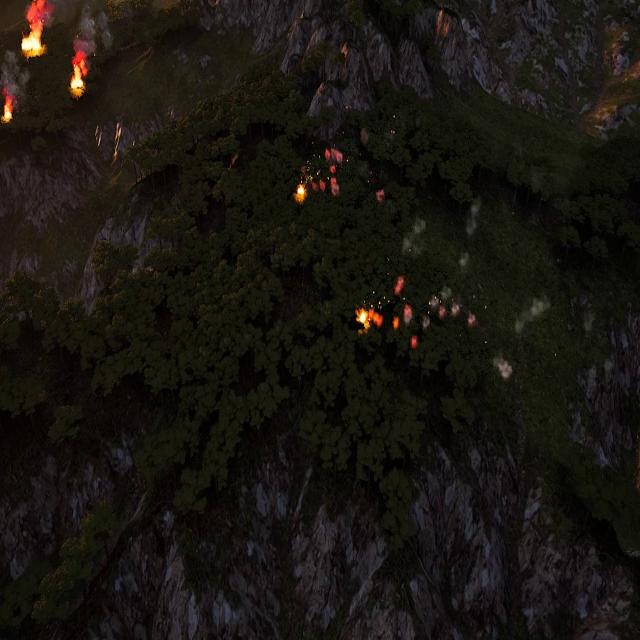fire: (21, 1, 51, 59), (69, 53, 88, 97), (355, 308, 380, 329), (1, 96, 13, 124), (294, 183, 306, 202), (377, 188, 387, 201)
smoke: (384, 200, 480, 346), (300, 148, 342, 196), (512, 301, 550, 338), (498, 359, 516, 379)
